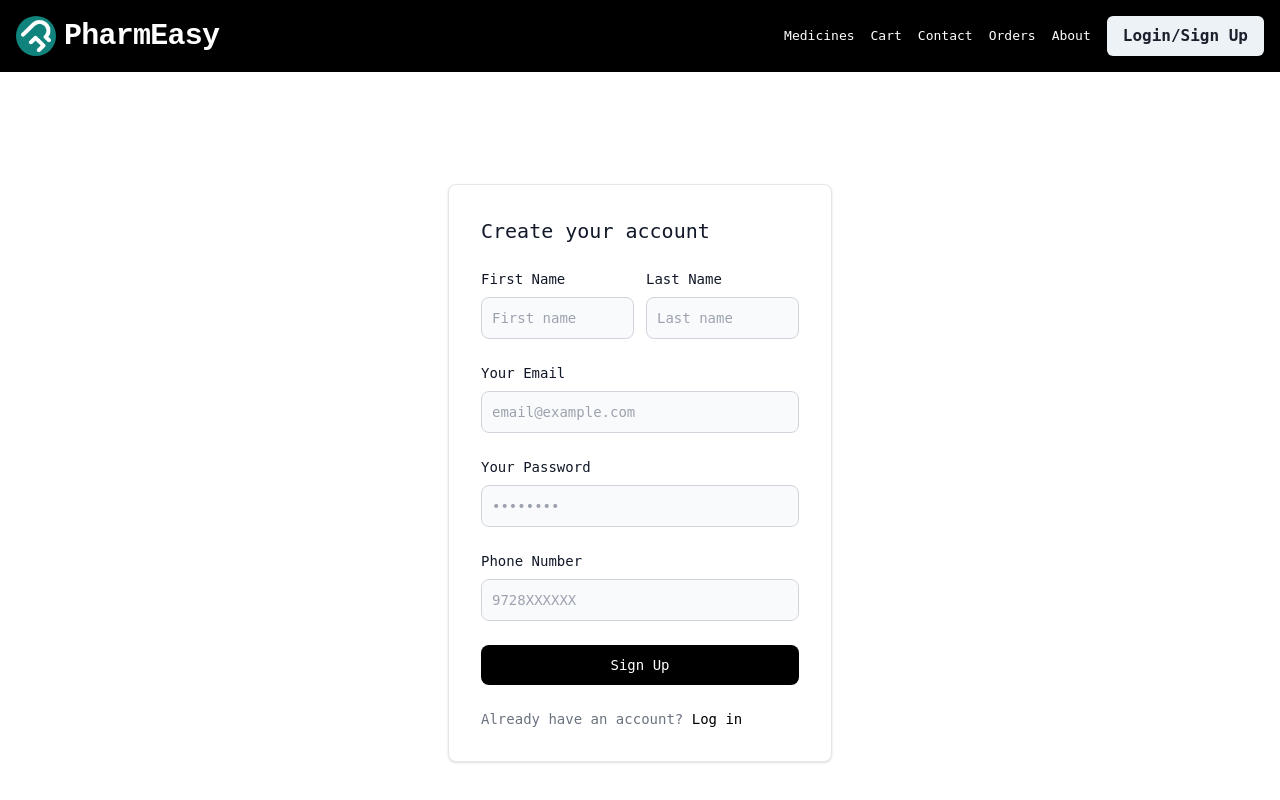
it: SignUp Component E2E Test › shows validation errors for empty fields
# Submit the form without filling it out
Click the submit button at (640, 665), box x1=481 y1=645 x2=799 y2=685
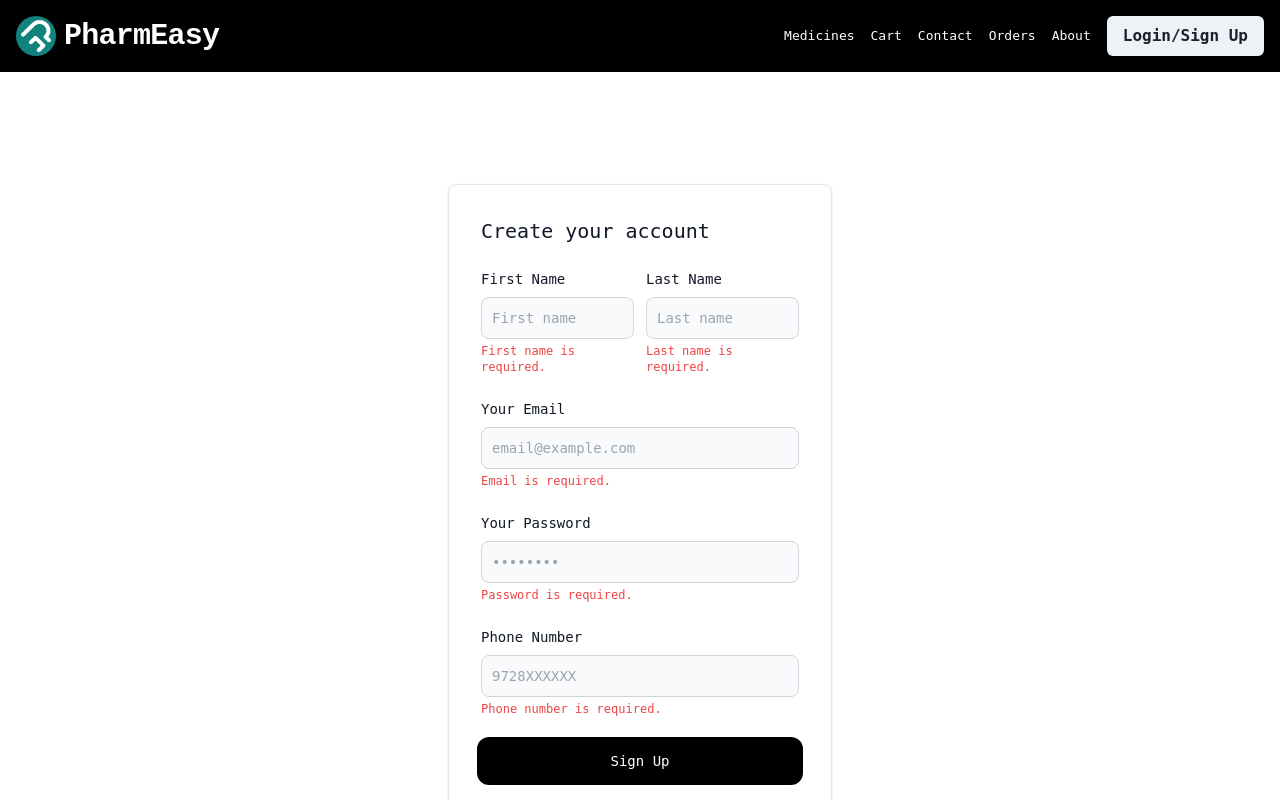
Expected: the text "First name is required." is shown, x1=481 y1=344 x2=575 y2=374
Expected: the text "Last name is required." is shown, x1=646 y1=344 x2=733 y2=374
Expected: the text "Email is required." is shown, x1=481 y1=474 x2=611 y2=488
